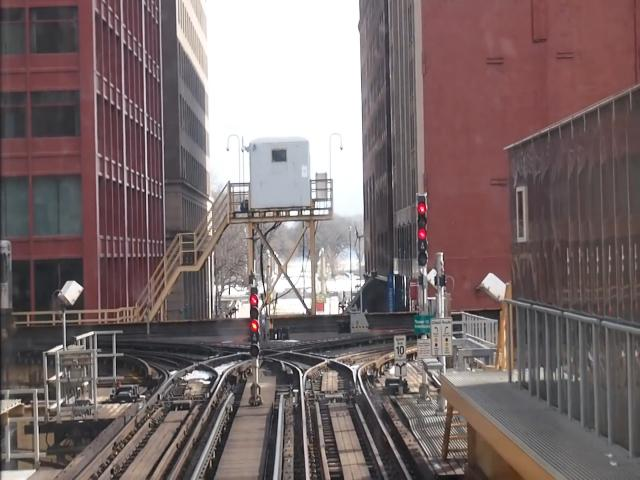signal light: (415, 193, 432, 268), (250, 287, 264, 362)
